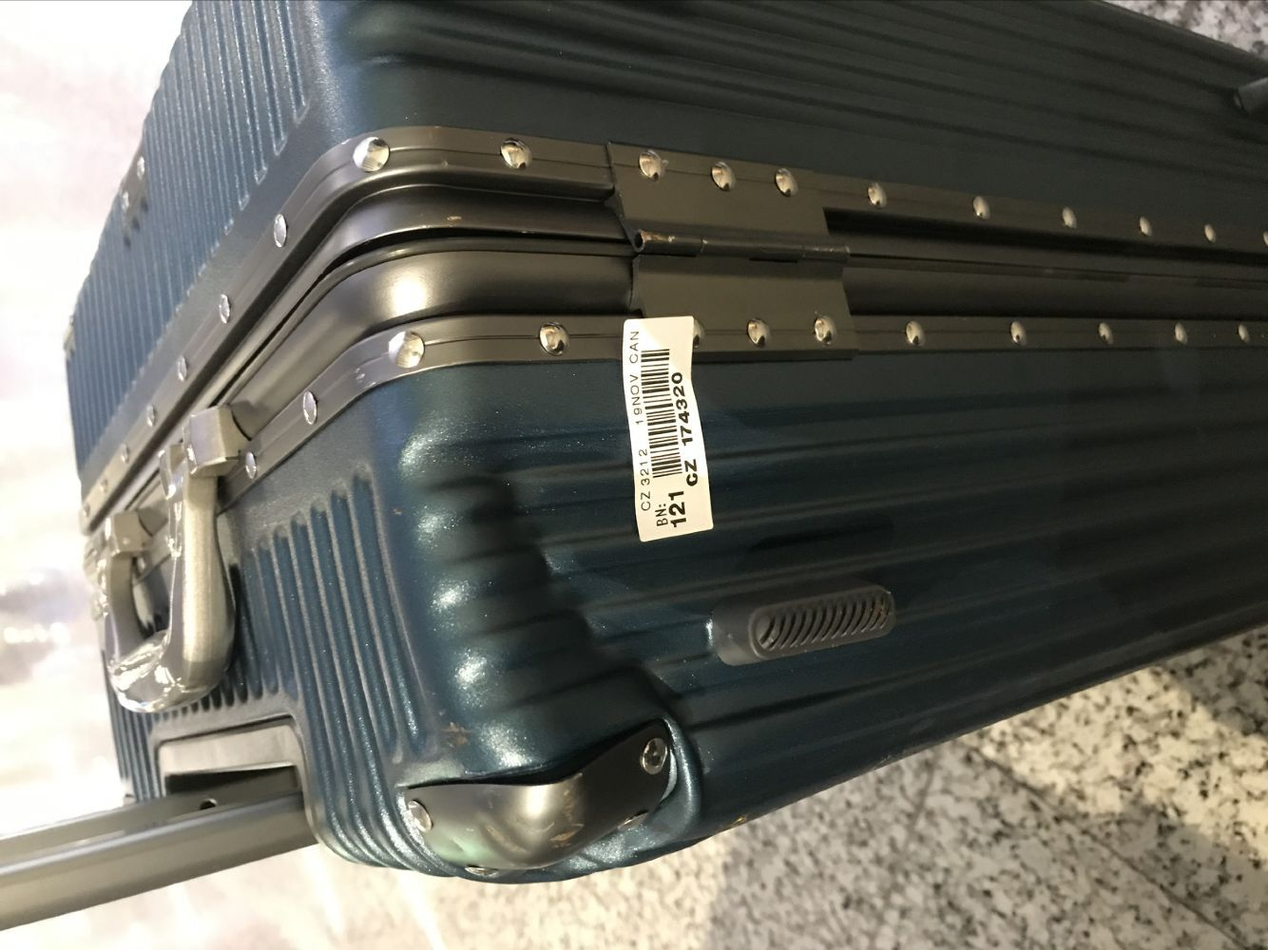rupture: (481, 460, 678, 709)
